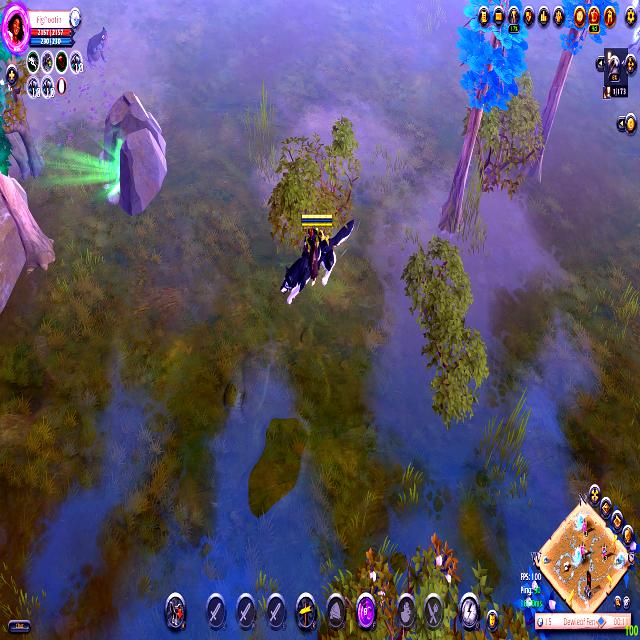hide: (511, 560, 571, 640), (348, 541, 402, 626), (419, 523, 462, 599)
ore: (84, 23, 110, 72)
red: (274, 200, 364, 311)
wisp caged: (436, 0, 531, 249), (524, 0, 620, 193), (0, 0, 52, 274)
